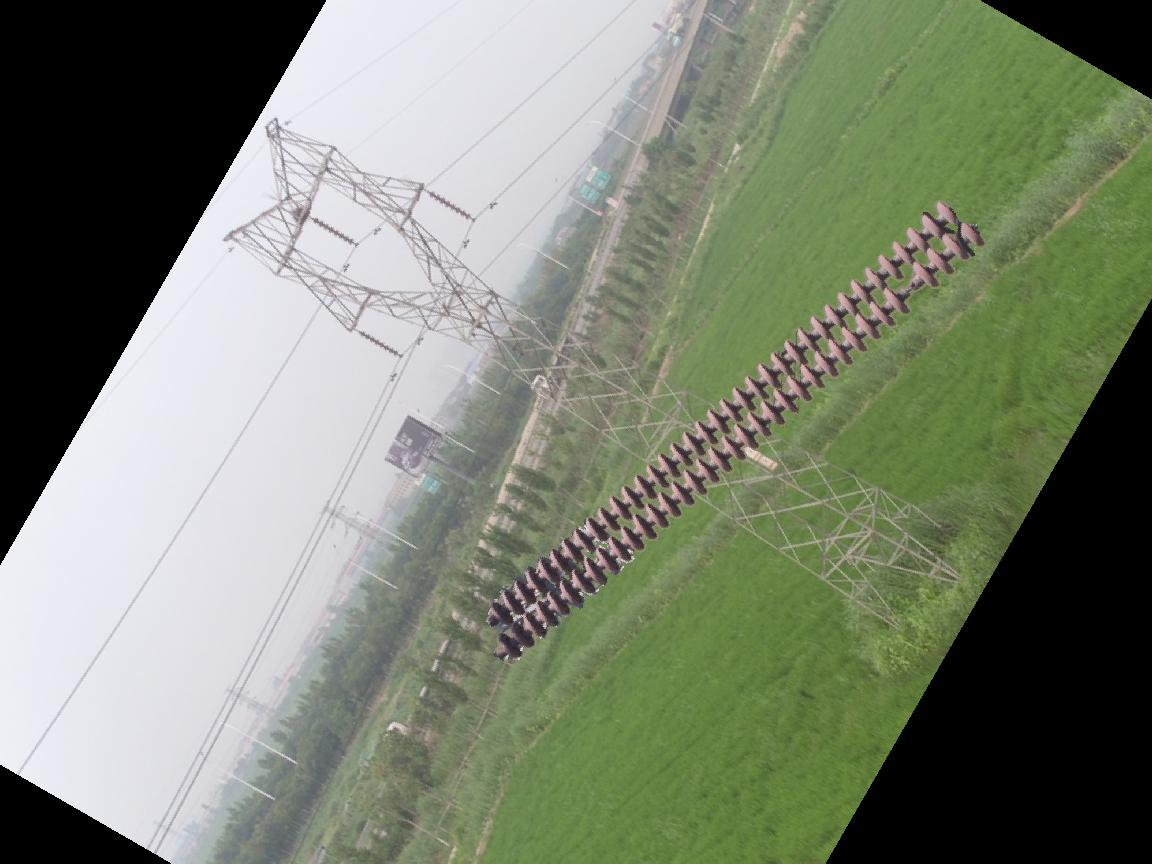insulator: (478, 195, 985, 666), (420, 186, 474, 225), (307, 211, 359, 247), (352, 326, 402, 362)
insulator_stringdrop: (881, 259, 942, 318)
